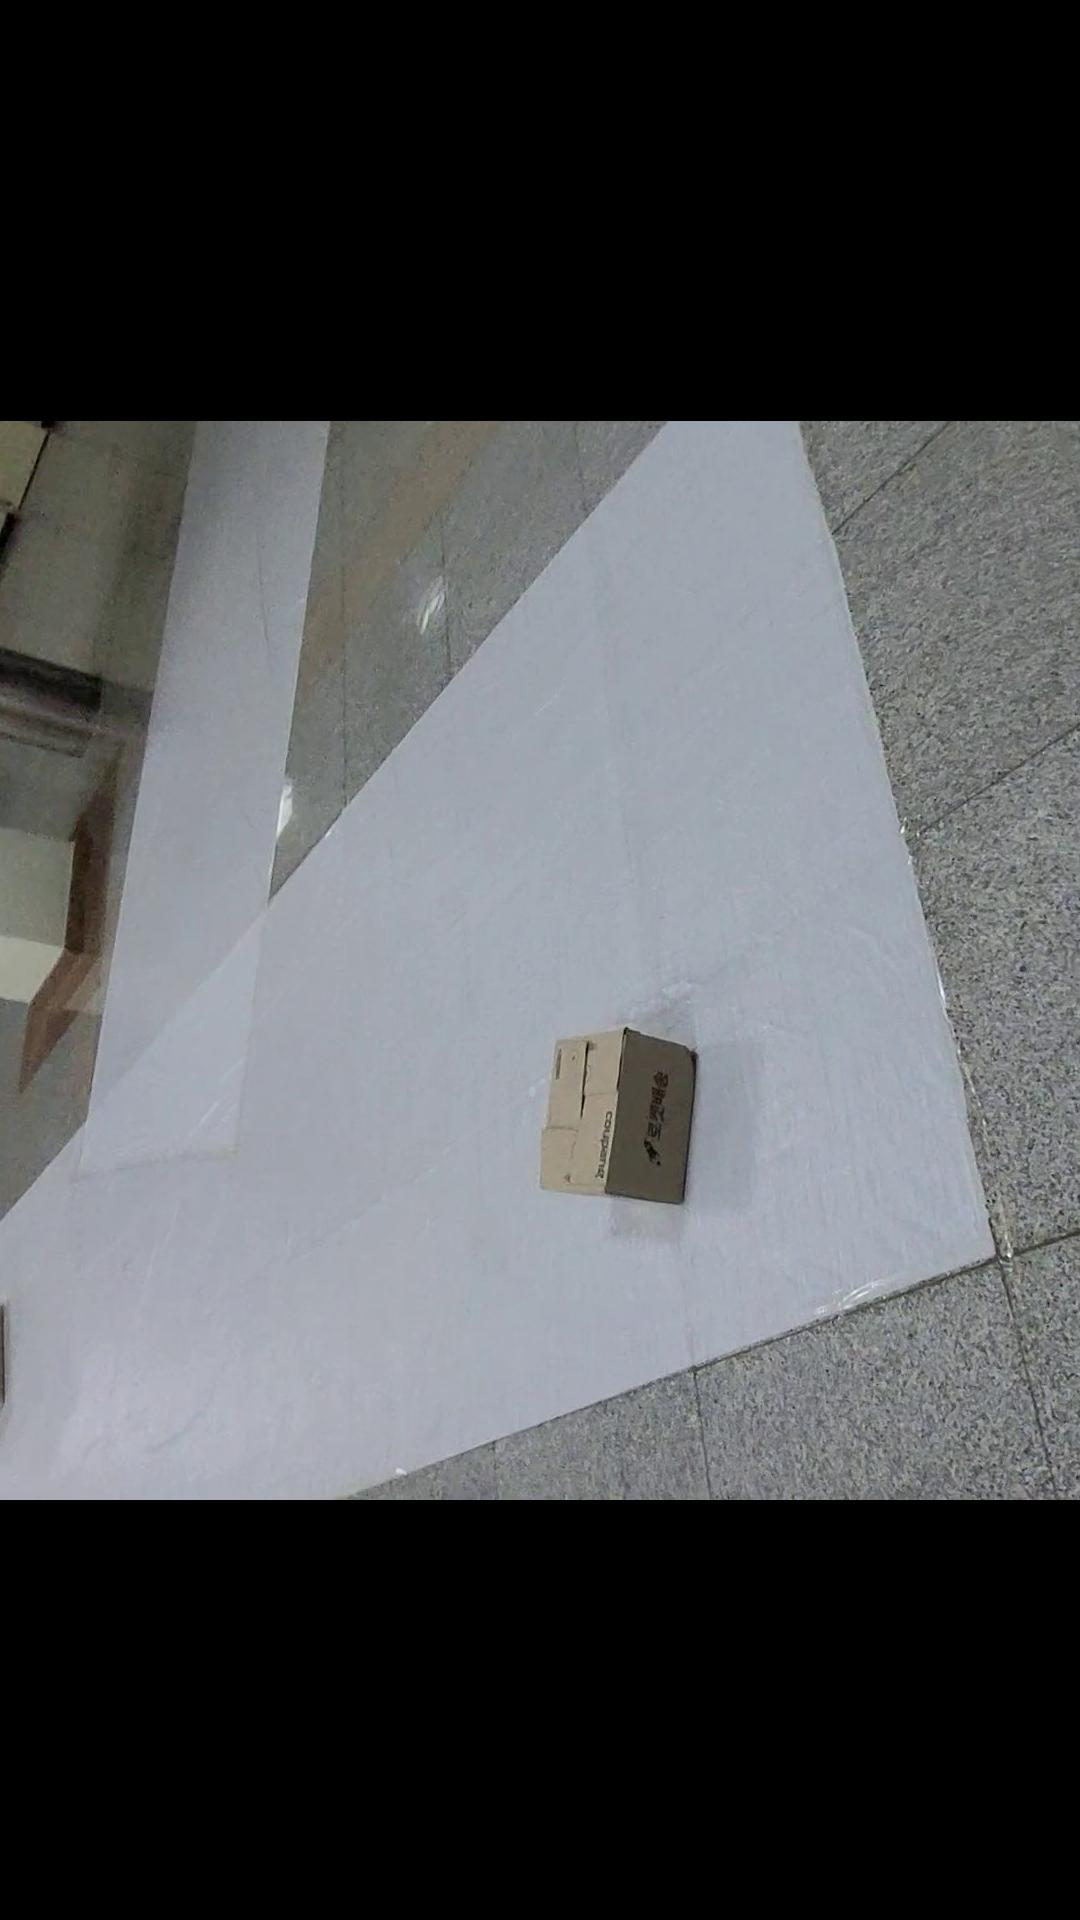Box: (518, 1004, 708, 1203), (0, 1255, 53, 1477)
